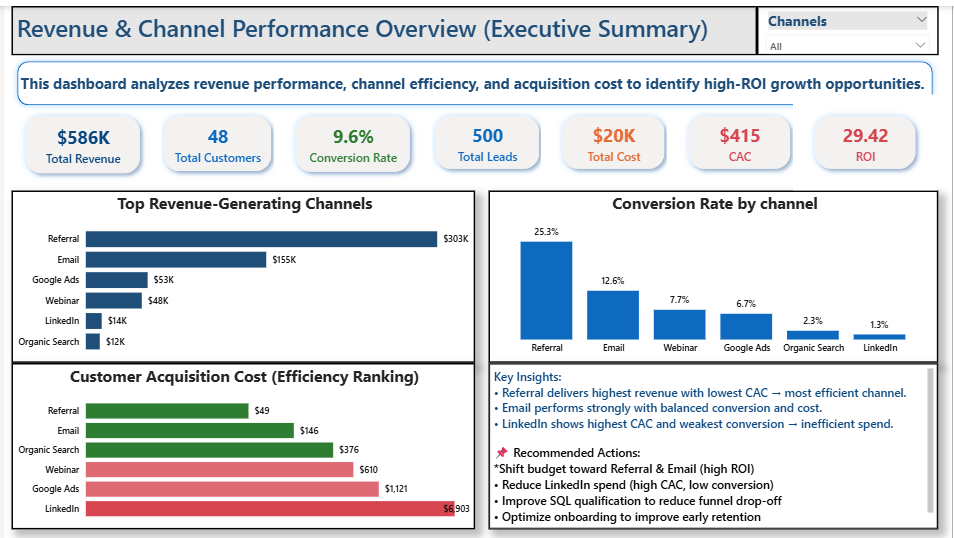

This screenshot's page, from the dashboard's own definition file:
{"tool":"powerbi","page":{"name":"Page 1","canvas":[1280,720],"ordinal":0},"visuals":[{"type":"cardVisual","fields":{"Data":["lead_stage_events.Total Leads"]},"box":[666.3,141.8,208.6,129.6],"z":0},{"type":"textbox","box":[10.1,0,1006.6,66.8],"z":1000},{"type":"cardVisual","fields":{"Data":["lead_stage_events.Total Customers"]},"box":[212.7,141.8,253.2,131.6],"z":2000},{"type":"cardVisual","fields":{"Data":["lead_stage_events.Conversion Rate"]},"box":[443.5,141.8,245.1,133.7],"z":3000},{"type":"cardVisual","fields":{"Data":["lead_stage_events.Total Revenue"]},"box":[0,141.8,234.9,135.7],"z":4000},{"type":"cardVisual","fields":{"Data":["lead_stage_events.Total Cost"]},"box":[852.7,141.8,216.7,129.6],"z":5000},{"type":"cardVisual","fields":{"Data":["lead_stage_events.CAC"]},"box":[1047.1,141.8,214.7,129.6],"z":6000},{"type":"clusteredBarChart","title":"Top Revenue-Generating Channels","fields":{"Category":["leads.channel"],"Y":["lead_stage_events.Total Revenue"]},"box":[10.1,277.5,625.8,224.8],"z":7000},{"type":"clusteredColumnChart","title":"Customers by channel","fields":{"Category":["leads.channel"],"Y":["lead_stage_events.Total Customers"]},"box":[654.2,277.5,607.6,224.8],"z":8000},{"type":"clusteredBarChart","title":"Customer Acquisition Cost (Efficiency Ranking)","fields":{"Category":["leads.channel"],"Y":["lead_stage_events.CAC"]},"box":[10.1,502.3,625.8,204.6],"z":9000},{"type":"textbox","box":[654.2,502.3,607.6,204.6],"z":10000},{"type":"slicer","fields":{"Values":["leads.channel"]},"box":[1016.7,0,245.1,66.8],"z":13000},{"type":"shape","box":[10.1,66.8,1251.6,74.9],"z":14001}]}

Visuals, with their boxes in screenshot pixels (x1, y1, x2, y2), scaled from the page's 1280x720 canvas onto the 954x538 screenshot:
cardVisual - lead_stage_events.Total Leads: x1=497, y1=106, x2=652, y2=203
textbox: x1=8, y1=0, x2=758, y2=50
cardVisual - lead_stage_events.Total Customers: x1=159, y1=106, x2=347, y2=204
cardVisual - lead_stage_events.Conversion Rate: x1=331, y1=106, x2=513, y2=206
cardVisual - lead_stage_events.Total Revenue: x1=0, y1=106, x2=175, y2=207
cardVisual - lead_stage_events.Total Cost: x1=636, y1=106, x2=797, y2=203
cardVisual - lead_stage_events.CAC: x1=780, y1=106, x2=940, y2=203
"Top Revenue-Generating Channels" clusteredBarChart: x1=8, y1=207, x2=474, y2=375
"Customers by channel" clusteredColumnChart: x1=488, y1=207, x2=940, y2=375
"Customer Acquisition Cost (Efficiency Ranking)" clusteredBarChart: x1=8, y1=375, x2=474, y2=528
textbox: x1=488, y1=375, x2=940, y2=528
slicer - leads.channel: x1=758, y1=0, x2=940, y2=50
shape: x1=8, y1=50, x2=940, y2=106
